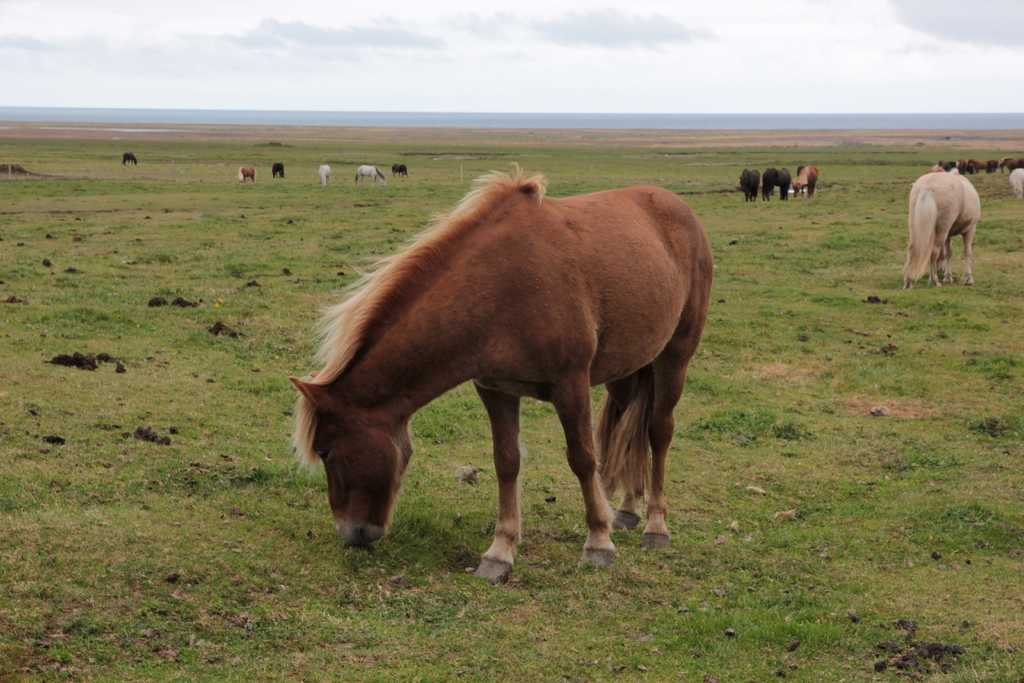horse: (288, 158, 716, 582), (901, 170, 981, 290), (759, 165, 793, 201), (352, 162, 387, 187), (236, 162, 257, 181), (388, 162, 409, 178), (317, 162, 332, 183), (270, 160, 287, 177), (120, 149, 137, 165)
